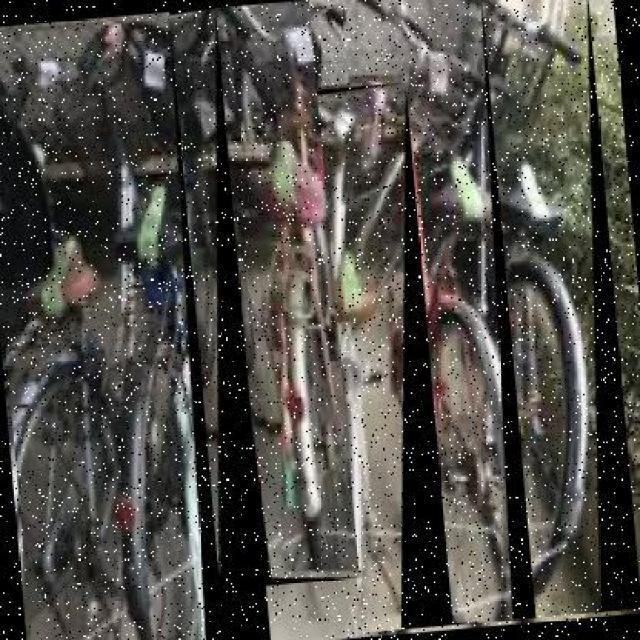bicycle: (1, 14, 227, 640), (440, 1, 640, 625), (341, 1, 538, 633), (98, 9, 274, 640), (202, 1, 363, 590), (313, 83, 455, 636)
